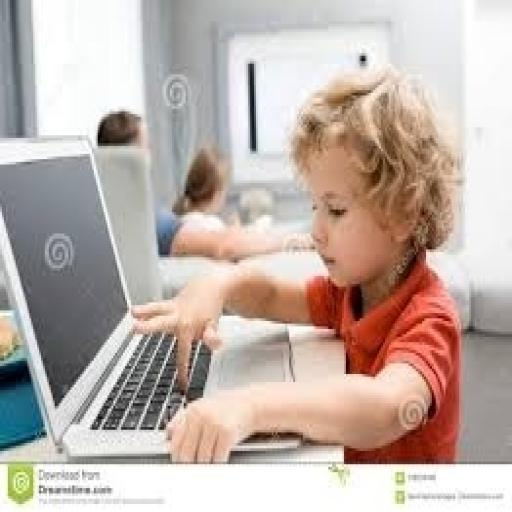using_laptop: (0, 140, 346, 462)
